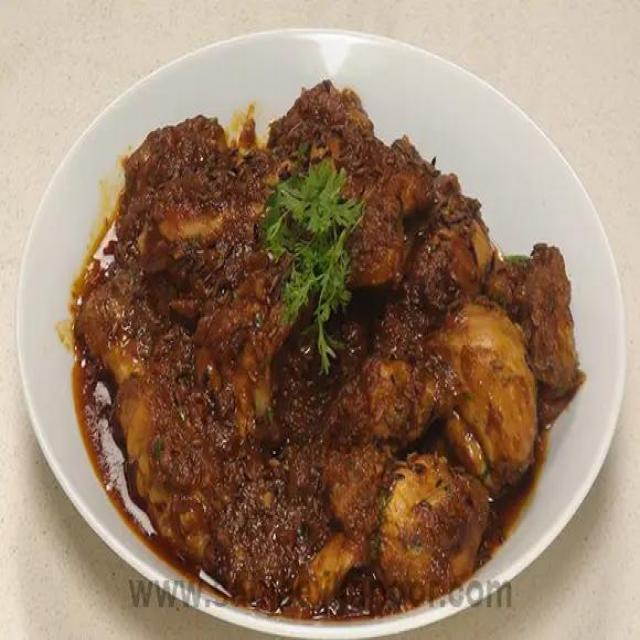chicken: (79, 62, 582, 594)
